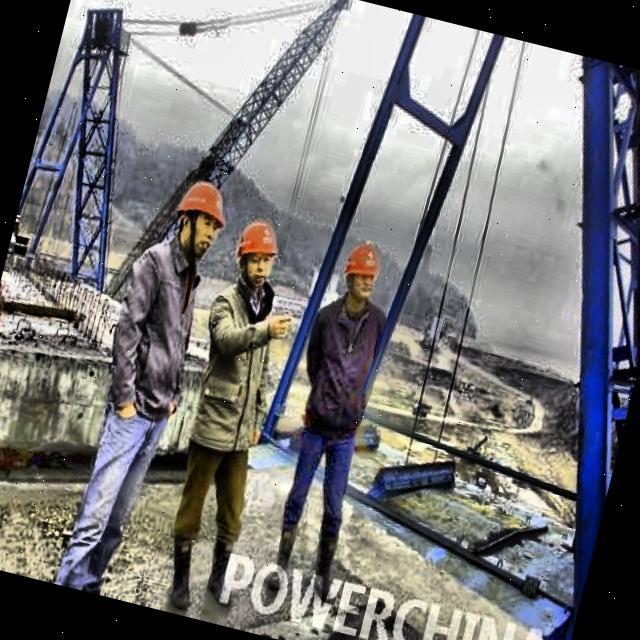helmet: (163, 170, 235, 270), (226, 213, 286, 294), (332, 242, 384, 316)
